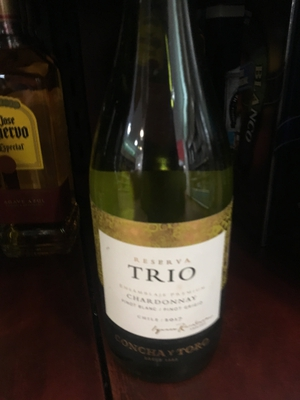trio chardonnay: (81, 29, 243, 376)
